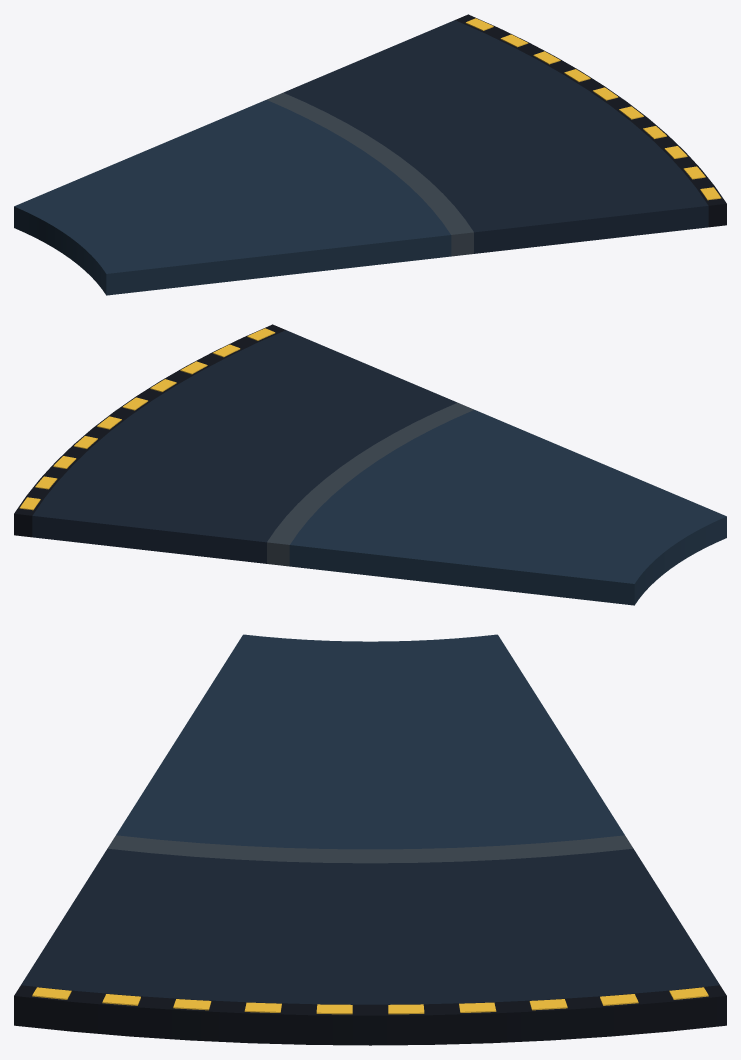
File: PlazaGajo.fbx
3 renders of one model, top to bottom at view 1: azimuth 30°, elevation 25°; view 2: azimuth 150°, elevation 25°; view 3: azimuth 270°, elevation 25°, orthographic. The views are drawn at different scales.
Visible parts, largest first — view 1: PlazaGajo_Adentro, PlazaGajo_Afuera, PlazaGajo_Anillo, PlazaGajo_Borde, PlazaGajo_Franjas; view 2: PlazaGajo_Adentro, PlazaGajo_Afuera, PlazaGajo_Anillo, PlazaGajo_Borde, PlazaGajo_Franjas; view 3: PlazaGajo_Afuera, PlazaGajo_Adentro, PlazaGajo_Borde, PlazaGajo_Anillo, PlazaGajo_Franjas.
Boxes of the visible parts, bbox=[...] form: PlazaGajo_Adentro: bbox=[14, 100, 451, 295]; PlazaGajo_Afuera: bbox=[283, 20, 708, 253]; PlazaGajo_Anillo: bbox=[267, 92, 473, 256]; PlazaGajo_Borde: bbox=[455, 14, 726, 227]; PlazaGajo_Franjas: bbox=[465, 18, 721, 200]; PlazaGajo_Adentro: bbox=[289, 410, 726, 605]; PlazaGajo_Afuera: bbox=[32, 330, 457, 563]; PlazaGajo_Anillo: bbox=[267, 402, 473, 566]; PlazaGajo_Borde: bbox=[14, 324, 285, 537]; PlazaGajo_Franjas: bbox=[19, 328, 275, 510]; PlazaGajo_Afuera: bbox=[21, 848, 719, 1004]; PlazaGajo_Adentro: bbox=[116, 634, 624, 849]; PlazaGajo_Borde: bbox=[14, 985, 726, 1045]; PlazaGajo_Anillo: bbox=[107, 835, 633, 863]; PlazaGajo_Franjas: bbox=[32, 987, 708, 1014].
Bounding box in the file's own units: 27.51 × 1.04 × 21.74.
